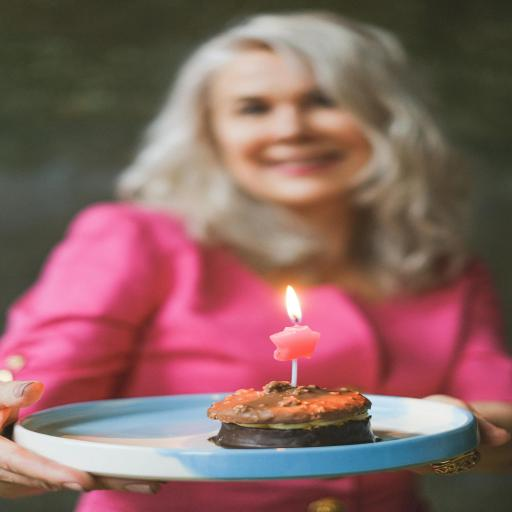candlelight: (240, 256, 331, 392)
